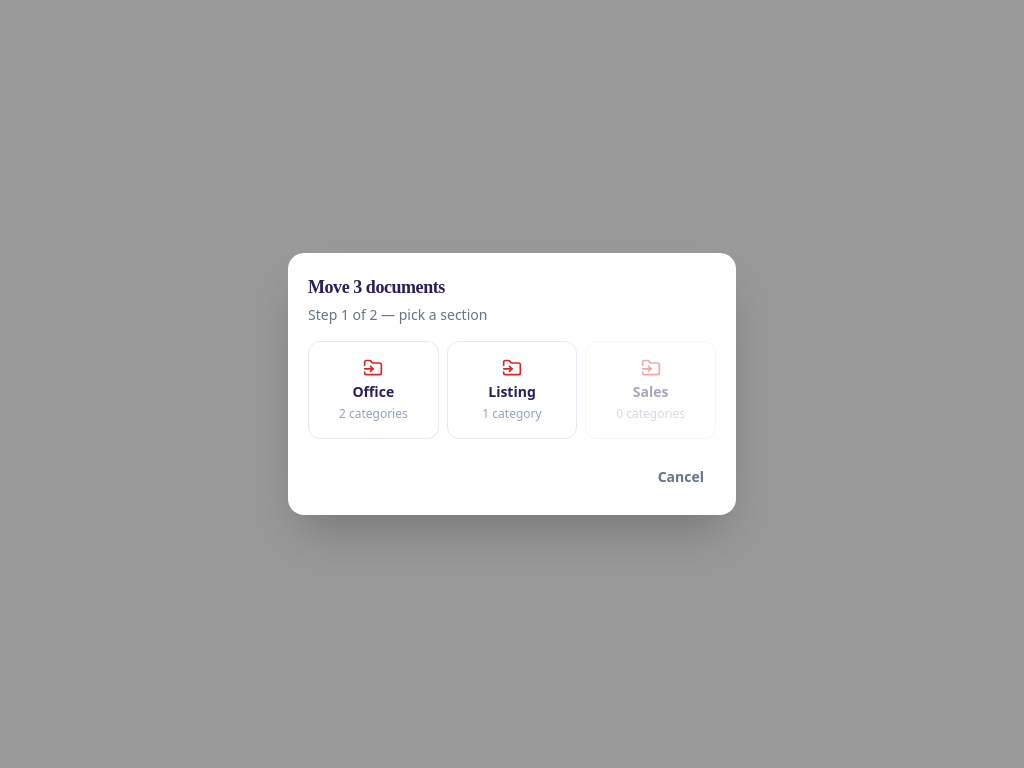
Test: CategoryPickerDialog — button path (no section provided) › Back button returns to section step from category step
Click the button "Office 2 categories" at (373, 390), box [308, 341, 439, 439]
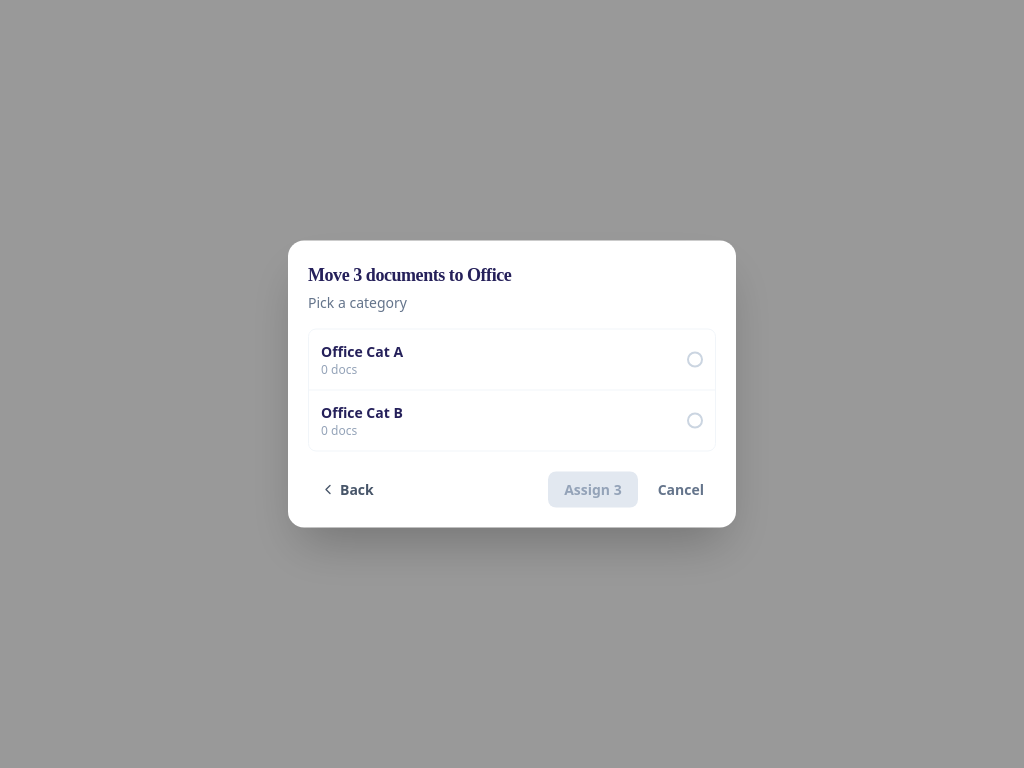
Click the button "Back" at (347, 490), box [308, 472, 386, 508]
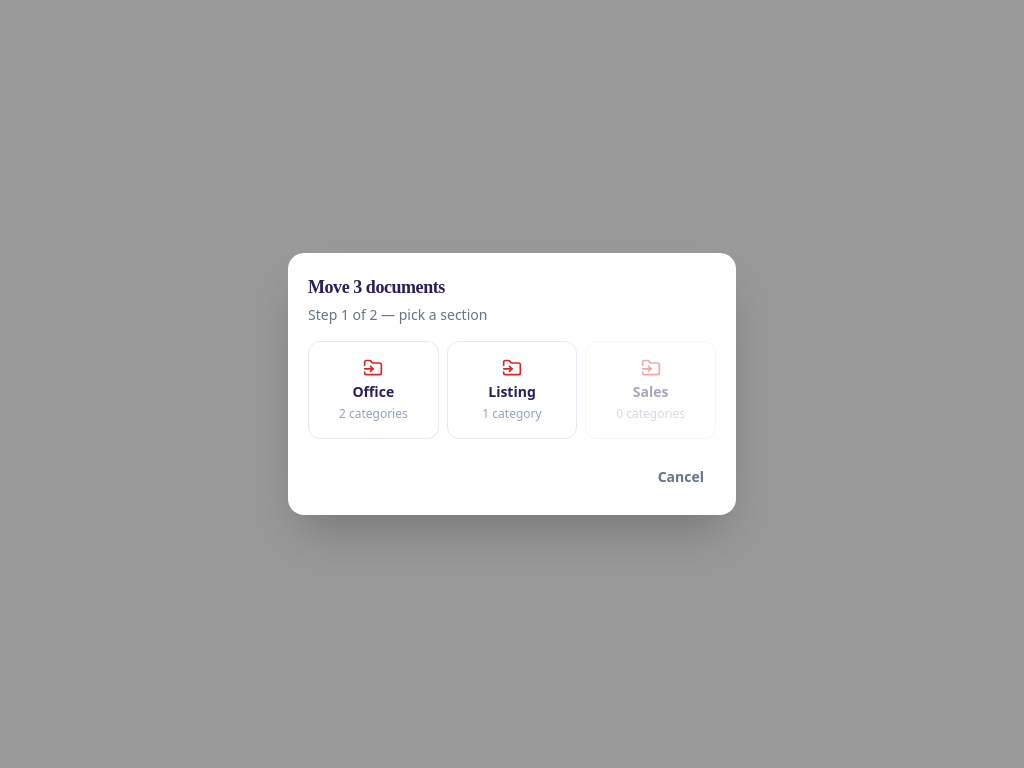
expect the text "Step 1 of 2 — pick a section" is shown: met, box [308, 305, 487, 324]
